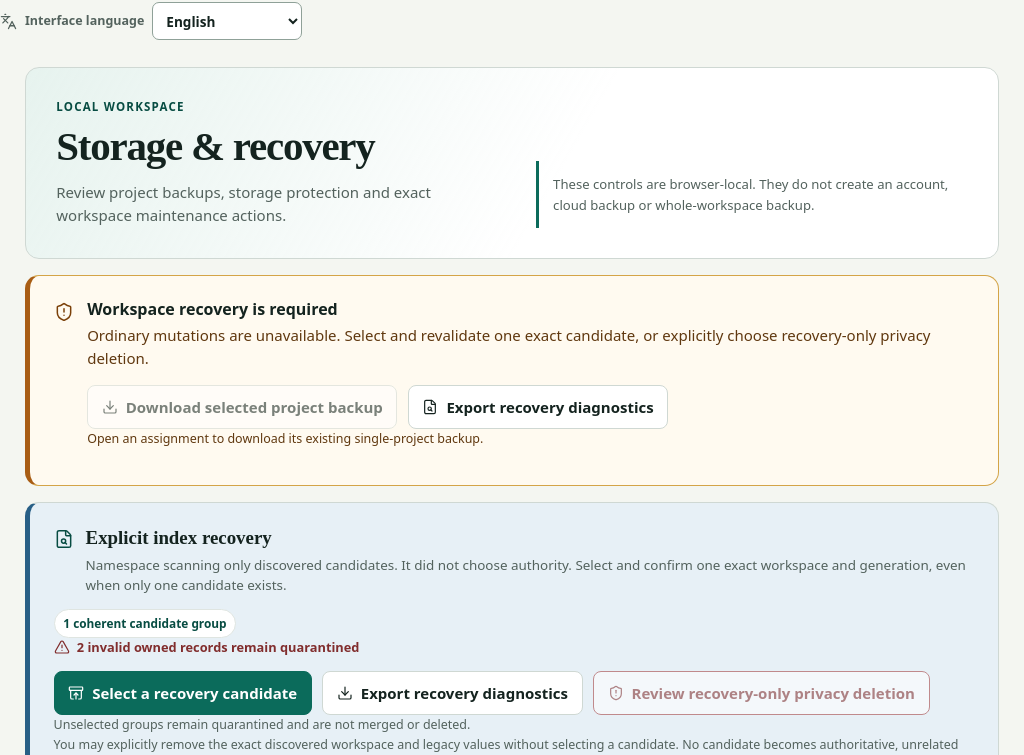
Test case: WorkspaceLifecyclePanel › requires explicit recovery selection even for one coherent candidate
Select "English" in the dropdown at [227, 21], box [152,2,302,40]
Expected: the text "1 coherent candidate group" is shown, [54,609,236,638]
Expected: the text "even when only one candidate exists" is shown, [86,556,966,594]
Click the button "Select a recovery candidate" at [183, 693], box [54,671,312,715]
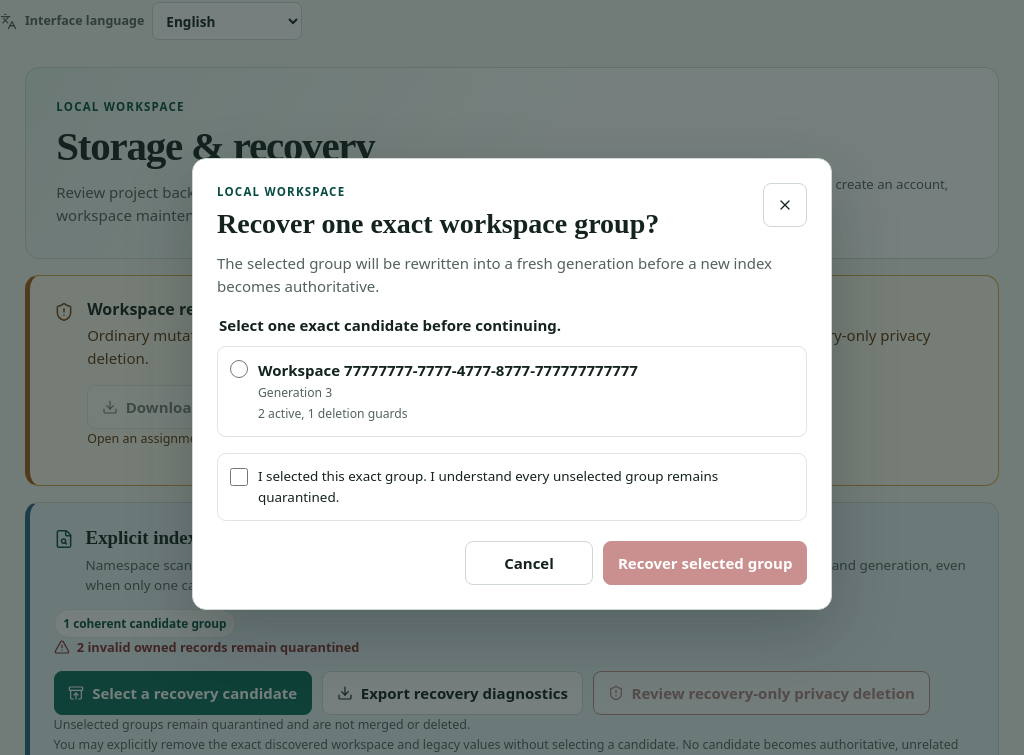
Expected: the button "Recover selected group" is disabled, [603,541,807,585]
Expected: the radio button is not checked
Click the radio button at [239, 369], box [230,360,248,378]
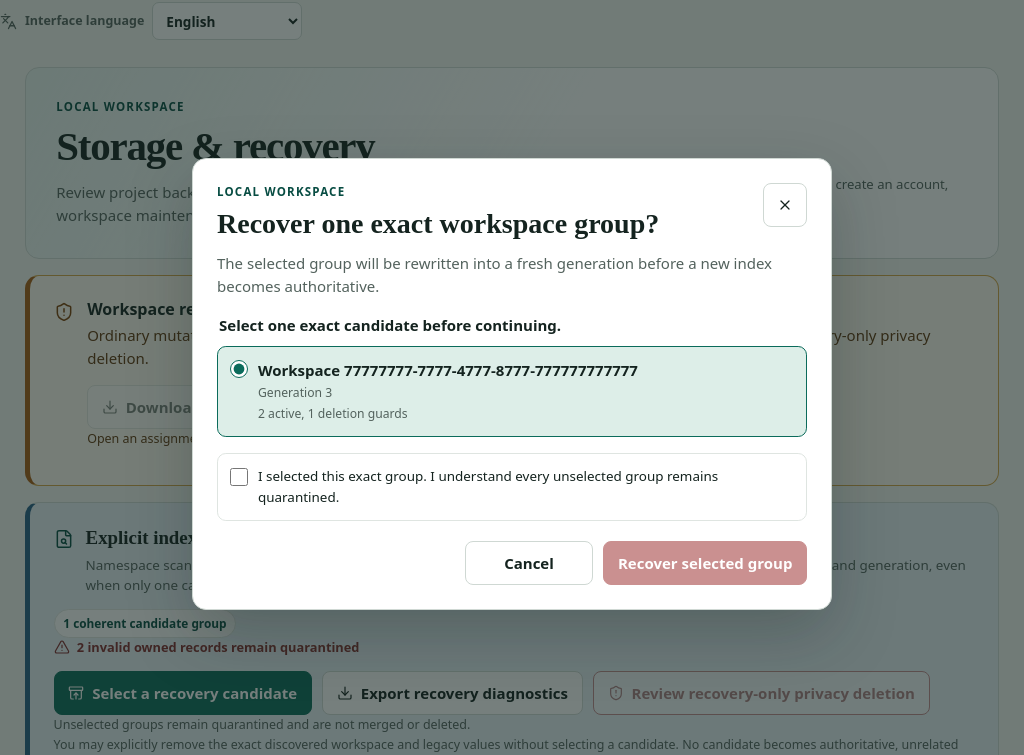
Expected: the button "Recover selected group" is disabled, [603,541,807,585]
Click the checkbox at [239, 477], box [230,468,248,486]
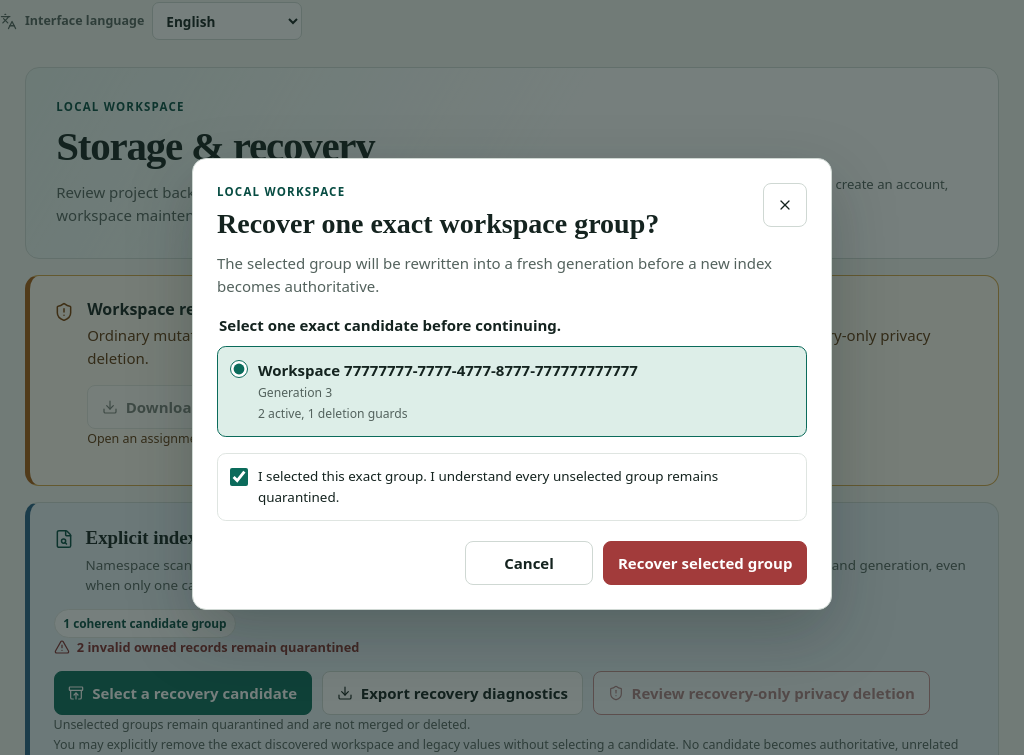
Expected: the button "Recover selected group" is enabled
Click the button "Recover selected group" at [705, 563], box [603,541,807,585]
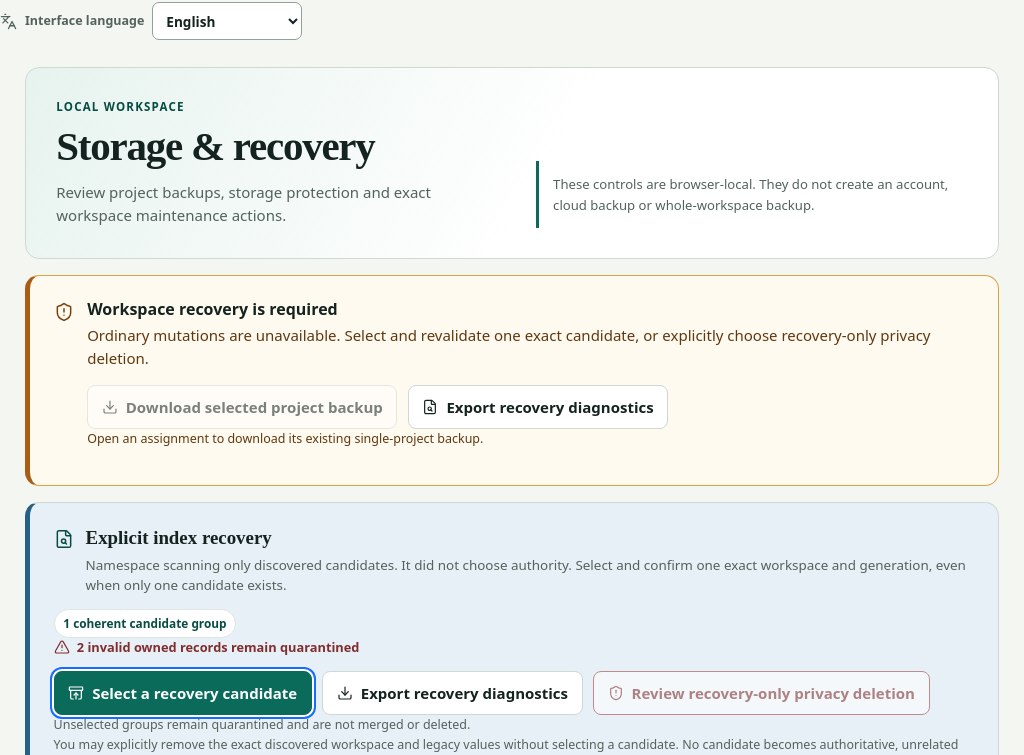
Expected: the dialog is gone
